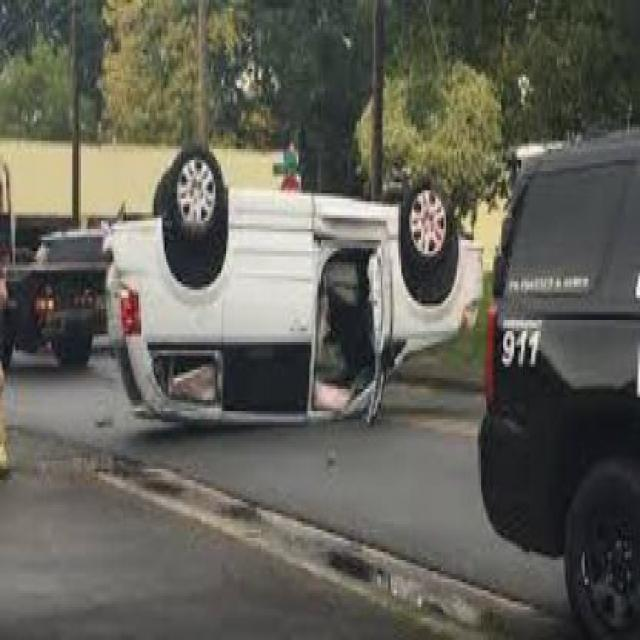accident: (106, 135, 489, 439)
